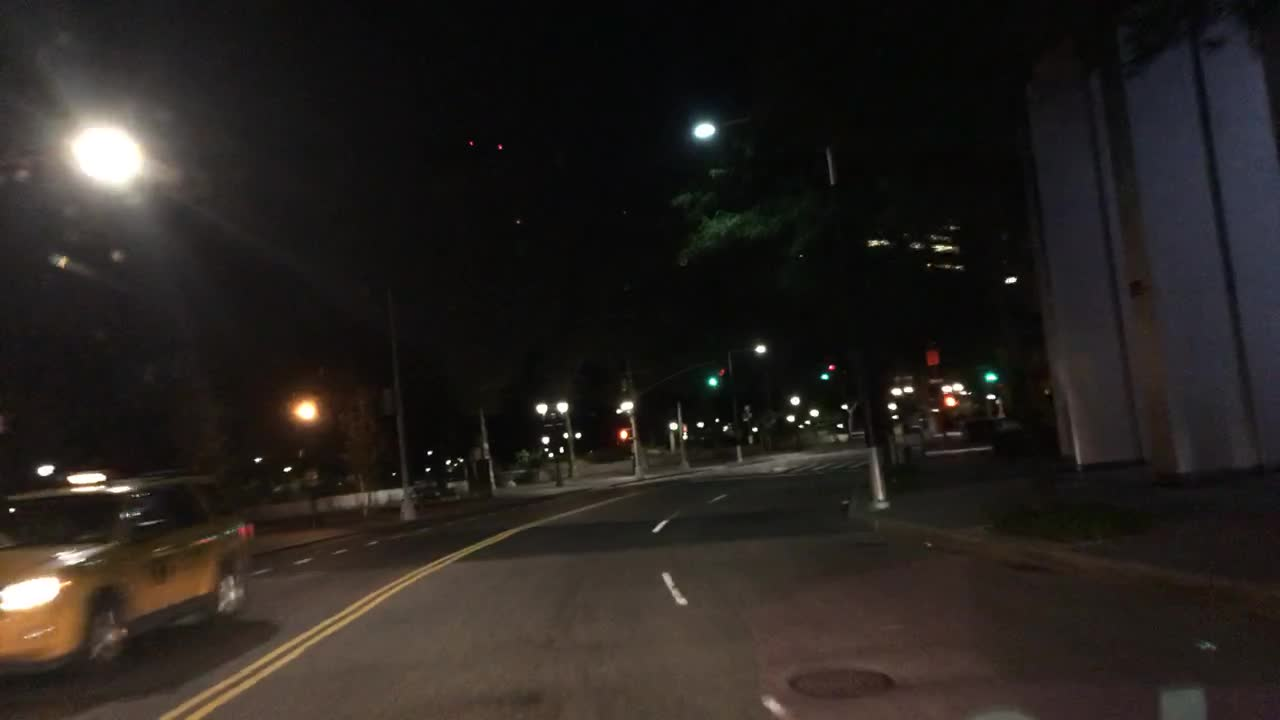car: (1, 468, 259, 680)
traffic light: (983, 369, 999, 391), (826, 360, 839, 383), (816, 363, 829, 382), (616, 427, 630, 442), (716, 365, 726, 386), (946, 391, 956, 405), (707, 368, 713, 391)
